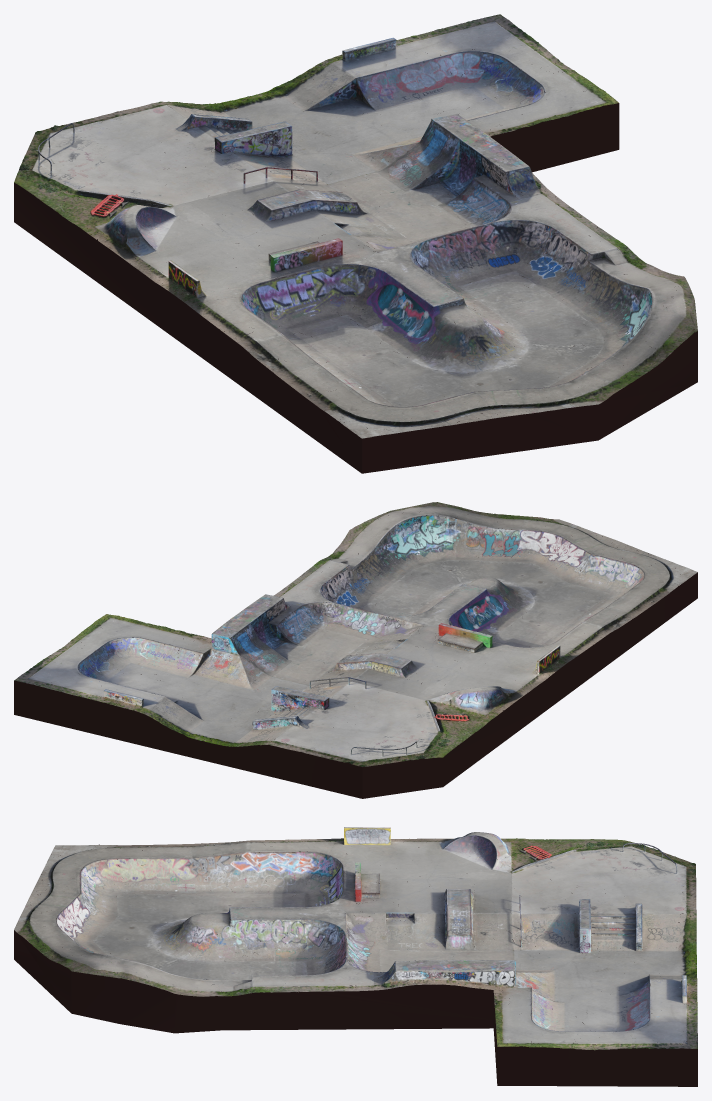
Rendered from dartford.glb.
3 renders of one model, top to bottom at view 1: azimuth 30°, elevation 25°; view 2: azimuth 150°, elevation 25°; view 3: azimuth 270°, elevation 25°, orthographic. The views are drawn at different scales.
Parts seen in each view (by area): view 1: Object_3, Object_7, Object_4, Object_6, Object_5, Object_8; view 2: Object_3, Object_4, Object_6, Object_7, Object_5, Object_8; view 3: Object_3, Object_7, Object_4, Object_5, Object_6, Object_8.
Boxes of the visible parts, left/top/right/bottom form: Object_3: left=14, top=14, right=697, bottom=473; Object_7: left=103, top=29, right=550, bottom=411; Object_4: left=21, top=22, right=687, bottom=414; Object_6: left=33, top=90, right=672, bottom=423; Object_5: left=87, top=17, right=657, bottom=431; Object_8: left=19, top=29, right=697, bottom=434; Object_3: left=14, top=502, right=697, bottom=798; Object_4: left=30, top=504, right=667, bottom=756; Object_6: left=109, top=512, right=639, bottom=766; Object_7: left=49, top=532, right=649, bottom=754; Object_5: left=25, top=512, right=683, bottom=751; Object_8: left=56, top=503, right=687, bottom=764; Object_3: left=14, top=838, right=697, bottom=1086; Object_7: left=40, top=835, right=696, bottom=1044; Object_4: left=23, top=832, right=693, bottom=1047; Object_5: left=50, top=827, right=697, bottom=1049; Object_6: left=39, top=835, right=695, bottom=1031; Object_8: left=35, top=827, right=697, bottom=1048.
Size of the model in its own units: 22.32 by 2.66 by 30.17.
1 material, 1 textured.
